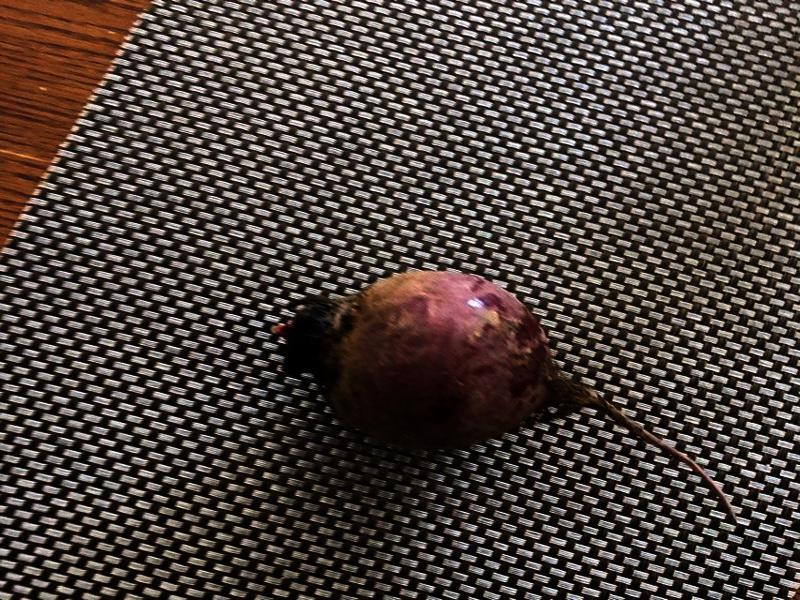Beet: (270, 272, 739, 523)
